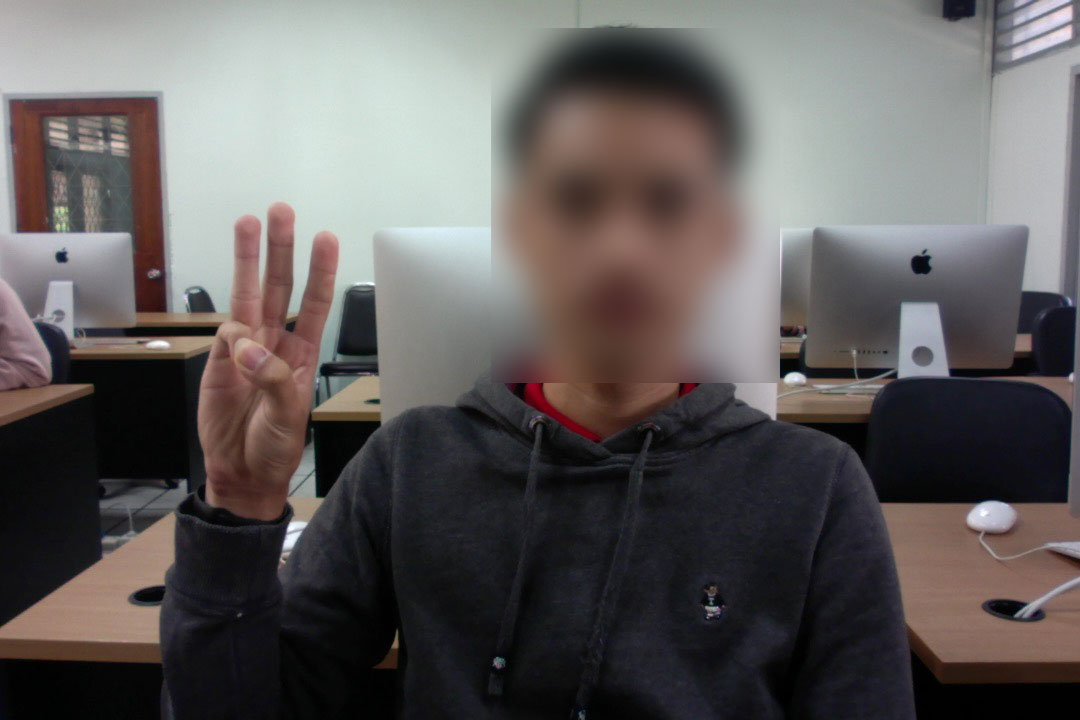wor: (172, 197, 340, 514)
